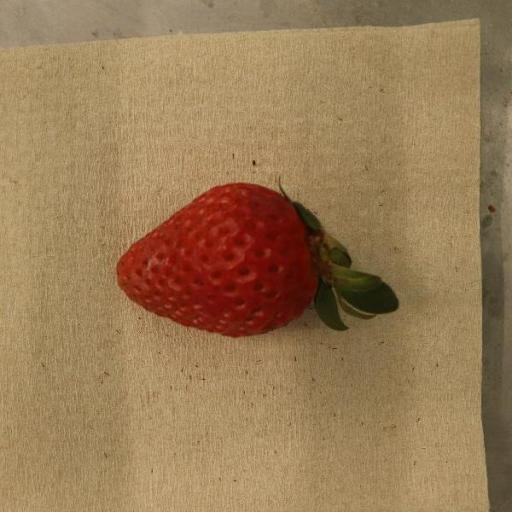Strawberry: (115, 183, 399, 339)
